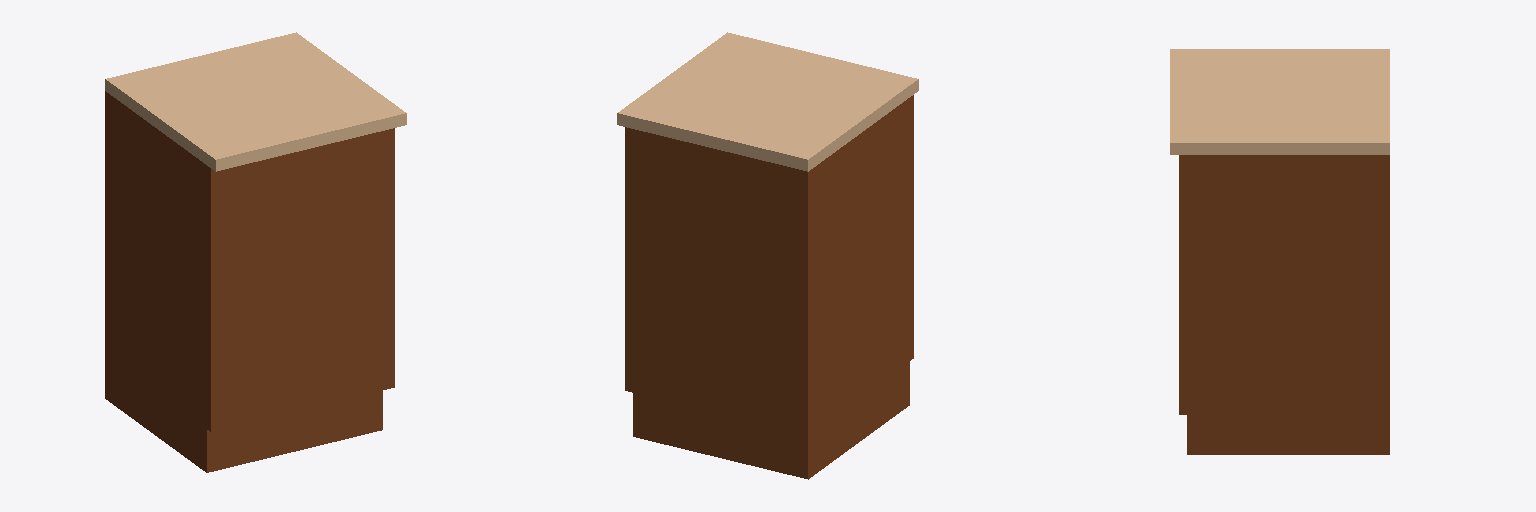
The picture shows the model from 3 angles: view 1: azimuth 30°, elevation 25°; view 2: azimuth 150°, elevation 25°; view 3: azimuth 270°, elevation 25°; orthographic projection.
Visible parts, largest first — view 1: object 1; view 2: object 1; view 3: object 1.
Boxes of the visible parts, box(x1,y1,x2,y2) form: object 1: box(105, 32, 406, 472); object 1: box(617, 32, 918, 479); object 1: box(1170, 49, 1389, 454).
Bounding box in the file's own units: 5 × 8 × 5.
1 materials, 1 textured.